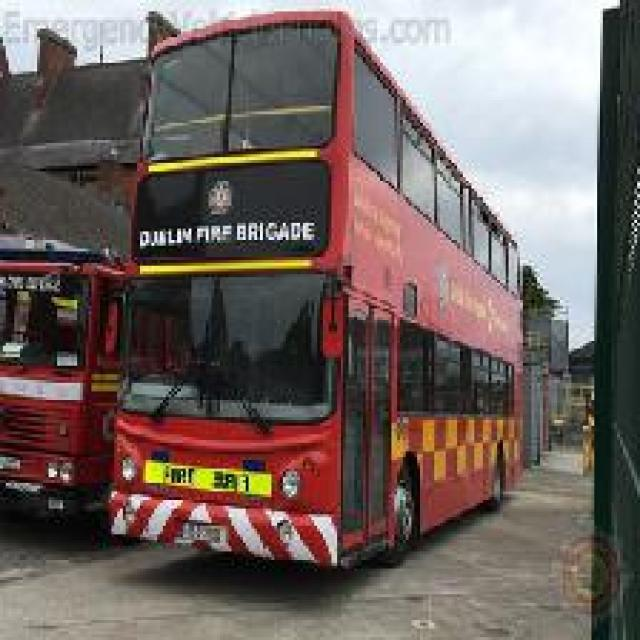emergency: (103, 8, 529, 576)
